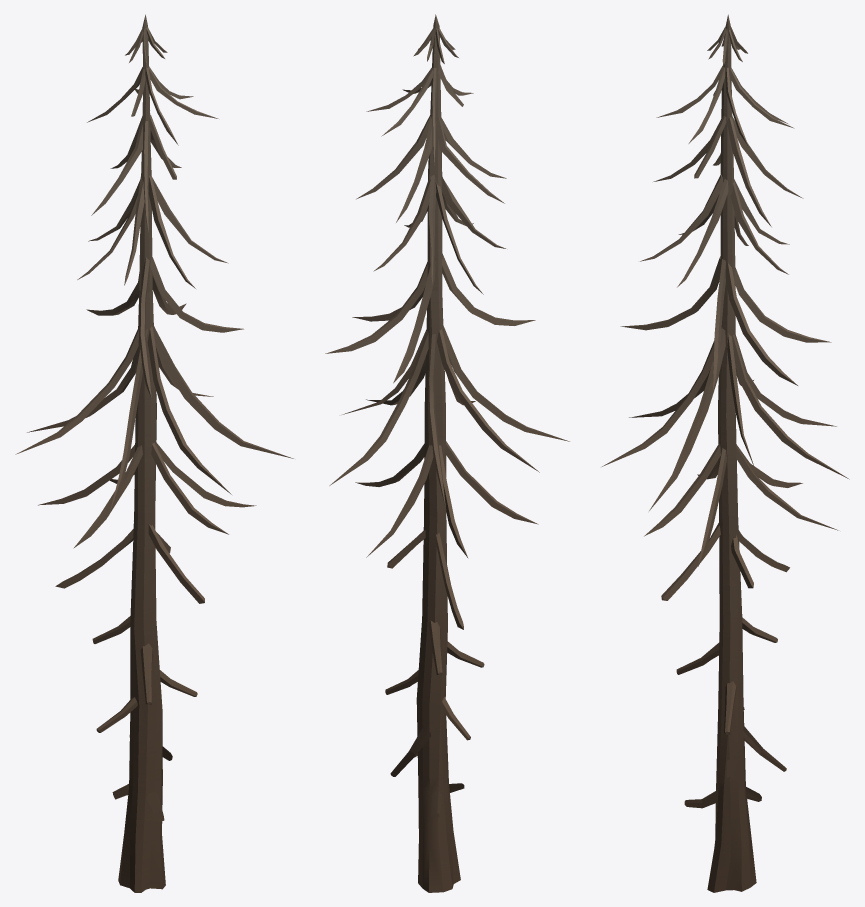
The model's file is PT_Pine_Tree_03_dead.glb.
3 renders of one model, left to right at view 1: azimuth 30°, elevation 25°; view 2: azimuth 150°, elevation 25°; view 3: azimuth 270°, elevation 25°, orthographic.
Visible parts, largest first — view 1: PT_Pine_Tree_03_dead_LOD0; view 2: PT_Pine_Tree_03_dead_LOD0; view 3: PT_Pine_Tree_03_dead_LOD0.
Boxes of the visible parts, x1,y1,x2,y2 form: PT_Pine_Tree_03_dead_LOD0: [15, 14, 293, 892]; PT_Pine_Tree_03_dead_LOD0: [325, 14, 569, 892]; PT_Pine_Tree_03_dead_LOD0: [602, 14, 849, 892].
Size of what is drawn, in the model's own units: 2.49 by 9.03 by 2.35.
Materials: 1 (1 with a texture image).
